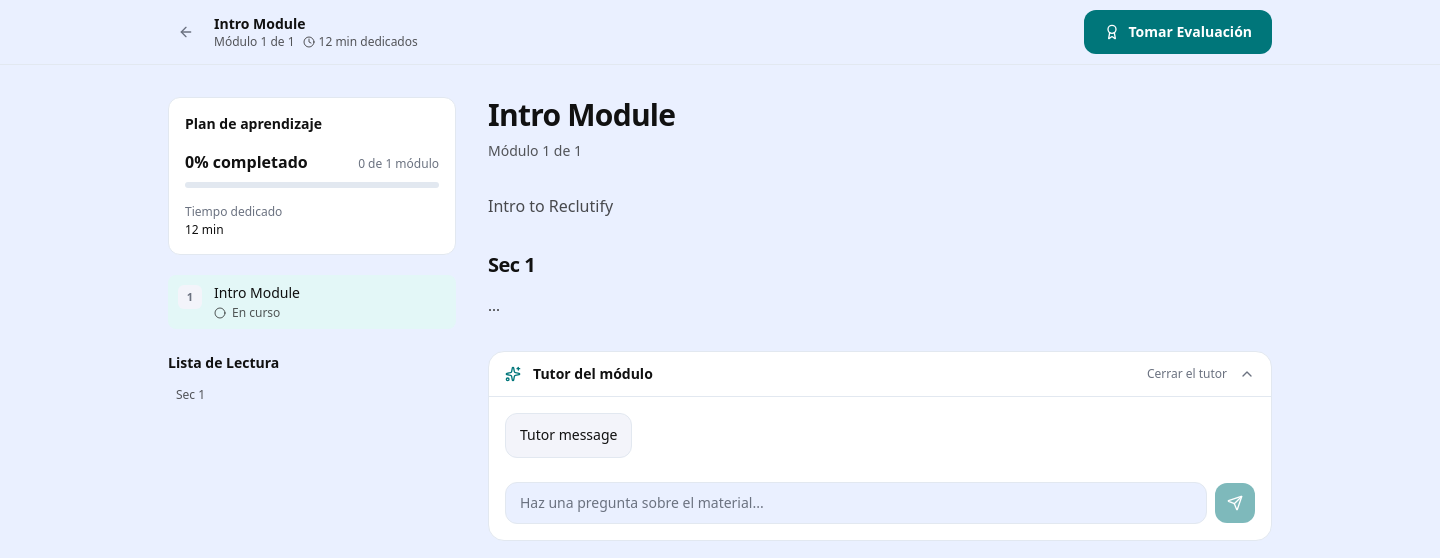
Test: TrainingModulePage Component Integrity › shows failing message on evaluation passed: false
Click the button "Tomar Evaluación".
click(1178, 32)  # box [1084,10,1272,54]
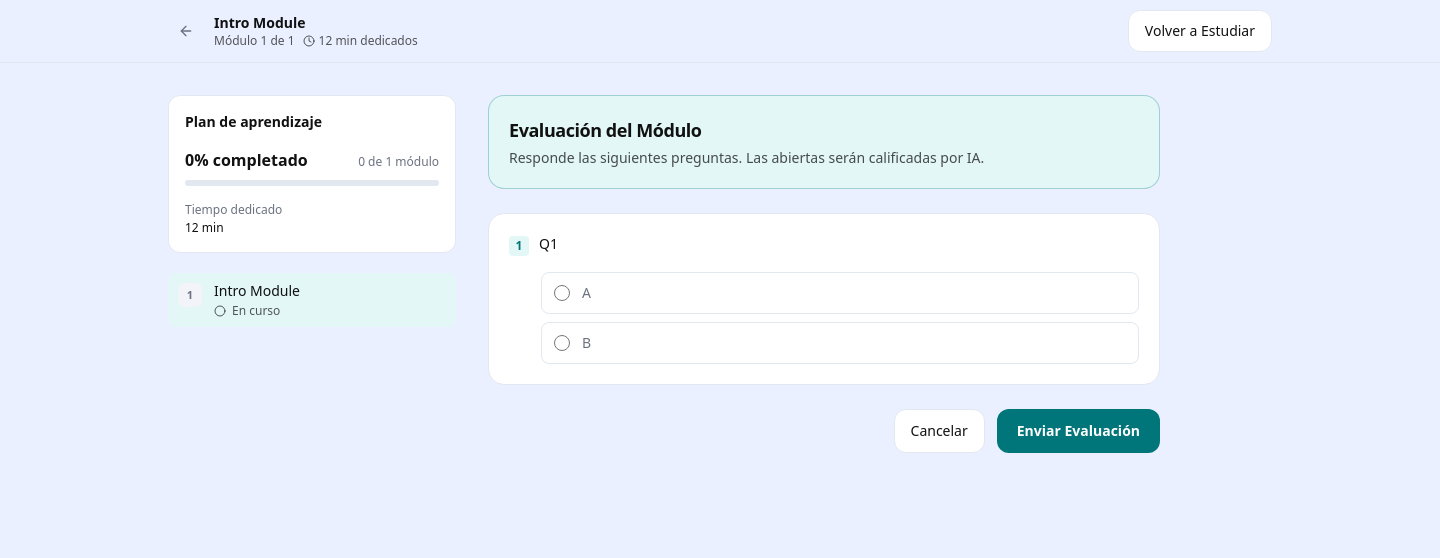
Click the radio button labelled "A".
click(562, 293)  # box [554,285,570,301]
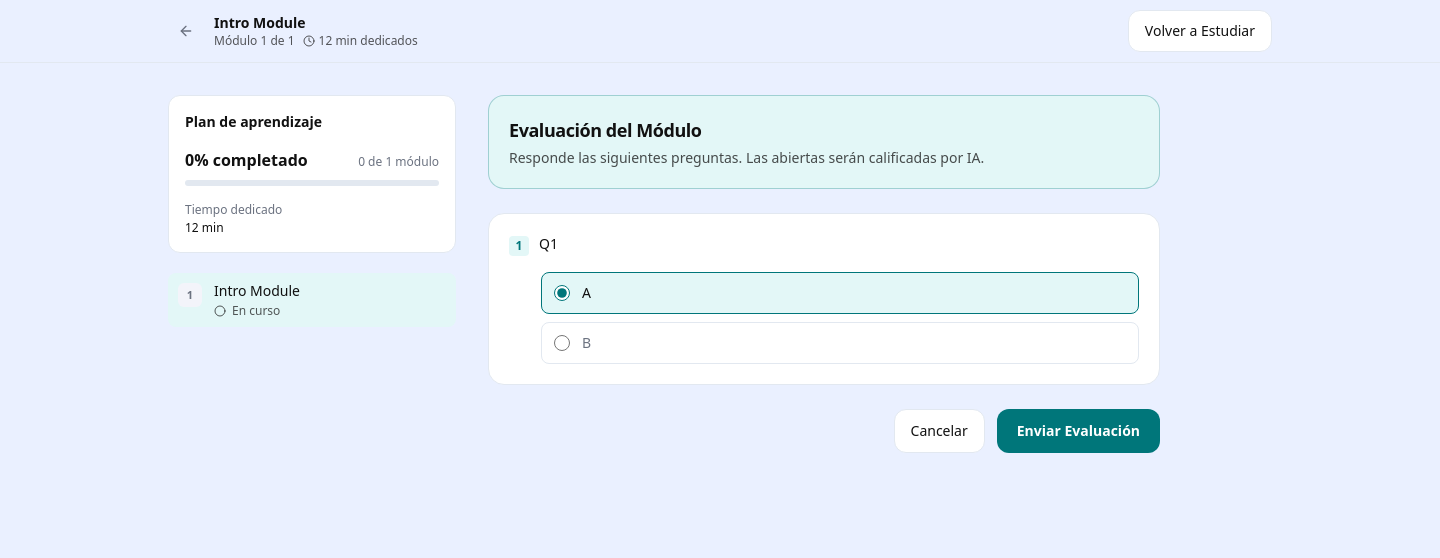
Click the button "Enviar Evaluación".
click(1078, 431)  # box [997,409,1160,453]
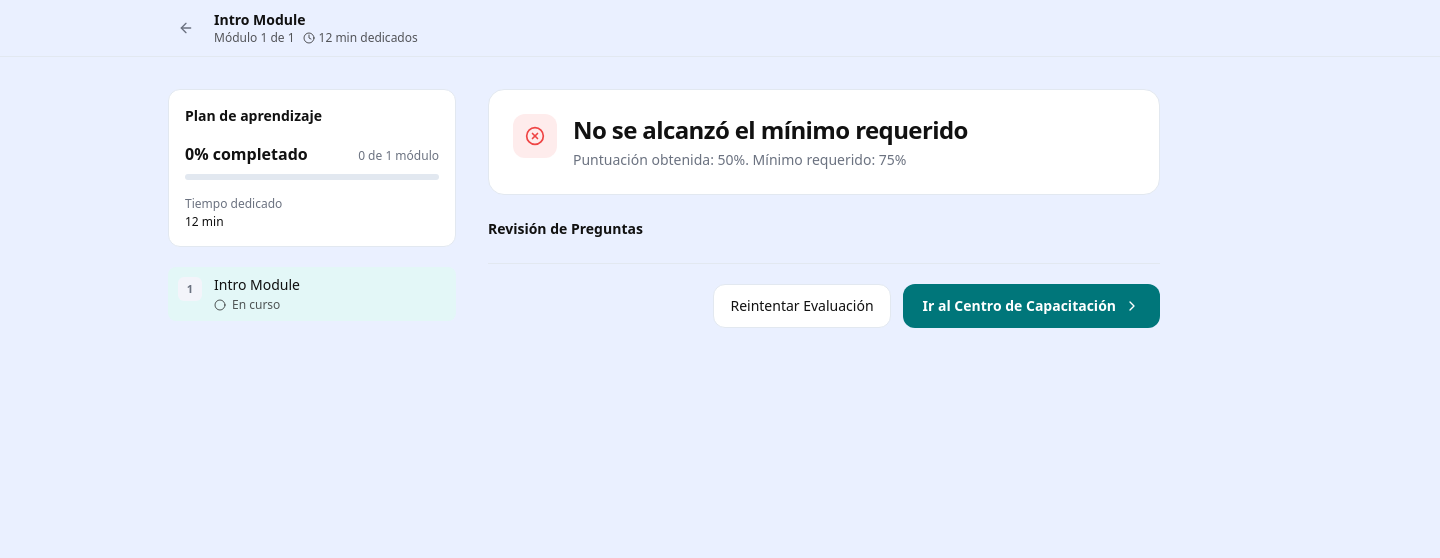
Check: the heading "No se alcanzó el mínimo requerido" is shown, box [573,114,968,146]
Check: the text "Puntuación obtenida: 50%. Mínimo requerido: 75%" is shown, box [573,150,906,169]
